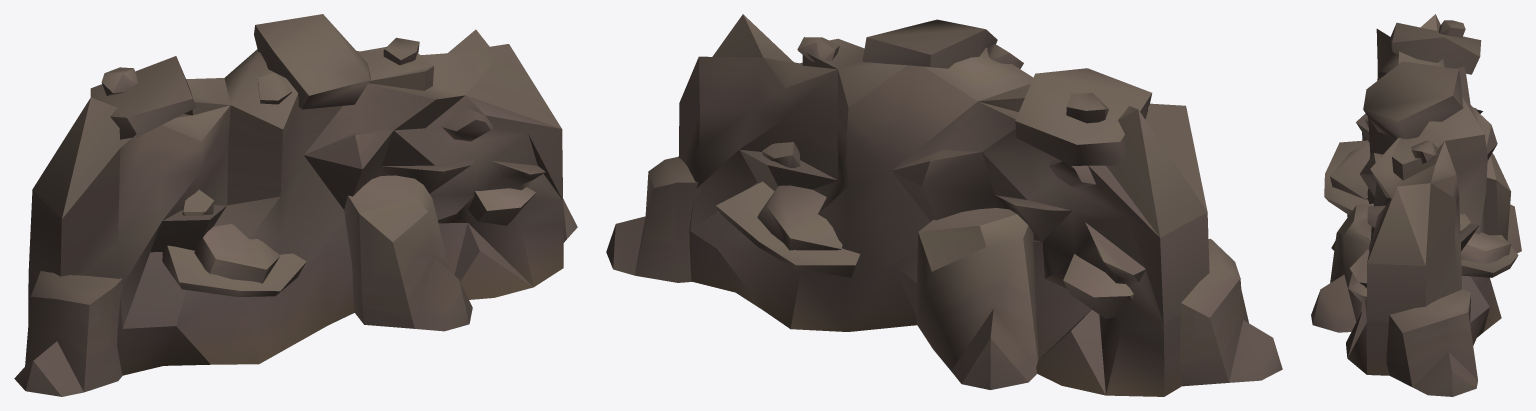
The model's file is kay-entulho.gltf.
3 views of the same model, side by side, from view 1: azimuth 30°, elevation 25°; view 2: azimuth 150°, elevation 25°; view 3: azimuth 270°, elevation 25° (orthographic). The views are drawn at different scales.
Parts seen in each view (by area): view 1: rubble_large; view 2: rubble_large; view 3: rubble_large.
Part boxes in pixels (x1,y1,x2,y2): rubble_large: (14,14,577,396); rubble_large: (606,14,1282,396); rubble_large: (1311,14,1521,396).
Bounding box in the file's own units: 5.28 × 2.27 × 2.07.
1 material, 1 textured.
